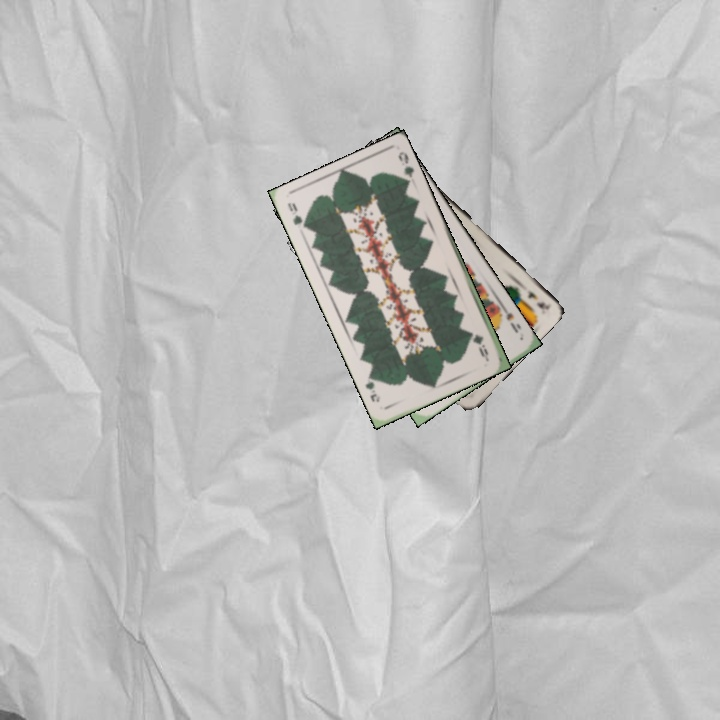EK: (523, 287, 551, 312)
G9: (283, 198, 311, 233), (470, 330, 491, 359)
S9: (493, 302, 524, 335)
